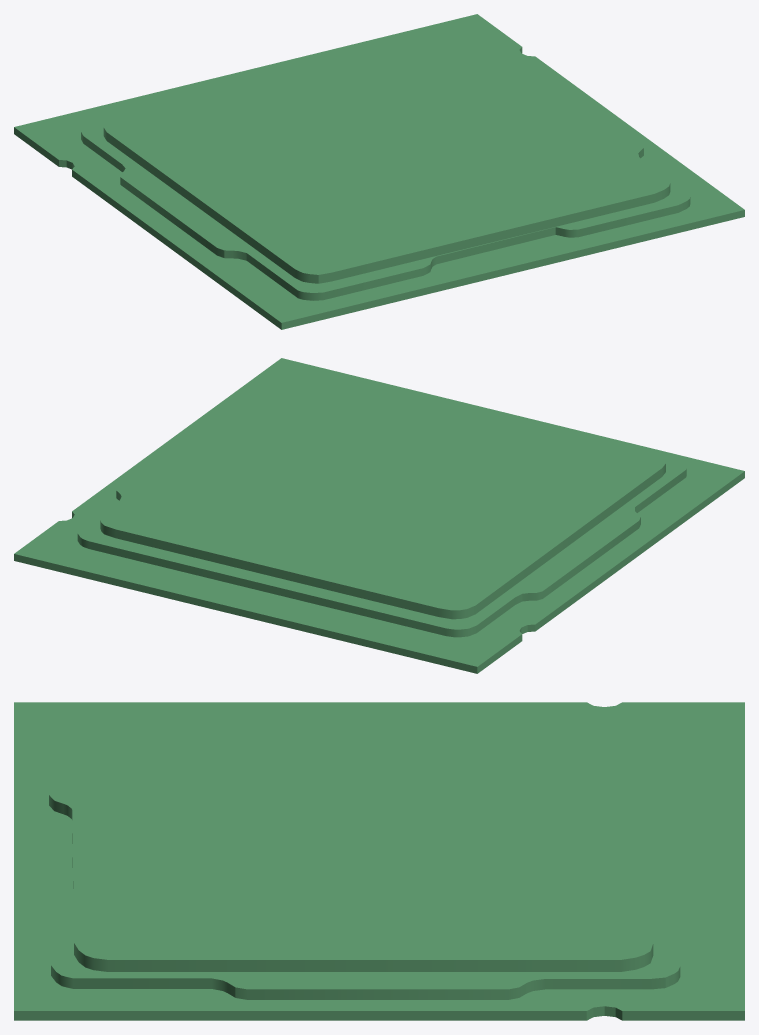
Rendered from CPU.fbx.
3 renders of one model, top to bottom at view 1: azimuth 30°, elevation 25°; view 2: azimuth 150°, elevation 25°; view 3: azimuth 270°, elevation 25°, orthographic. The views are drawn at different scales.
Parts seen in each view (by area): view 1: CPU.001; view 2: CPU.001; view 3: CPU.001.
Part boxes in pixels (box(x1,y1,x2,y2)): CPU.001: box(14, 14, 744, 329); CPU.001: box(14, 358, 744, 673); CPU.001: box(14, 702, 744, 1020).
Bounding box in the file's own units: 137 × 6.69 × 137.
